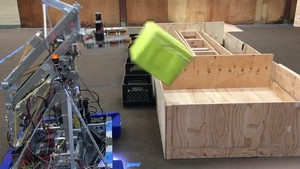cube: (126, 23, 193, 86)
